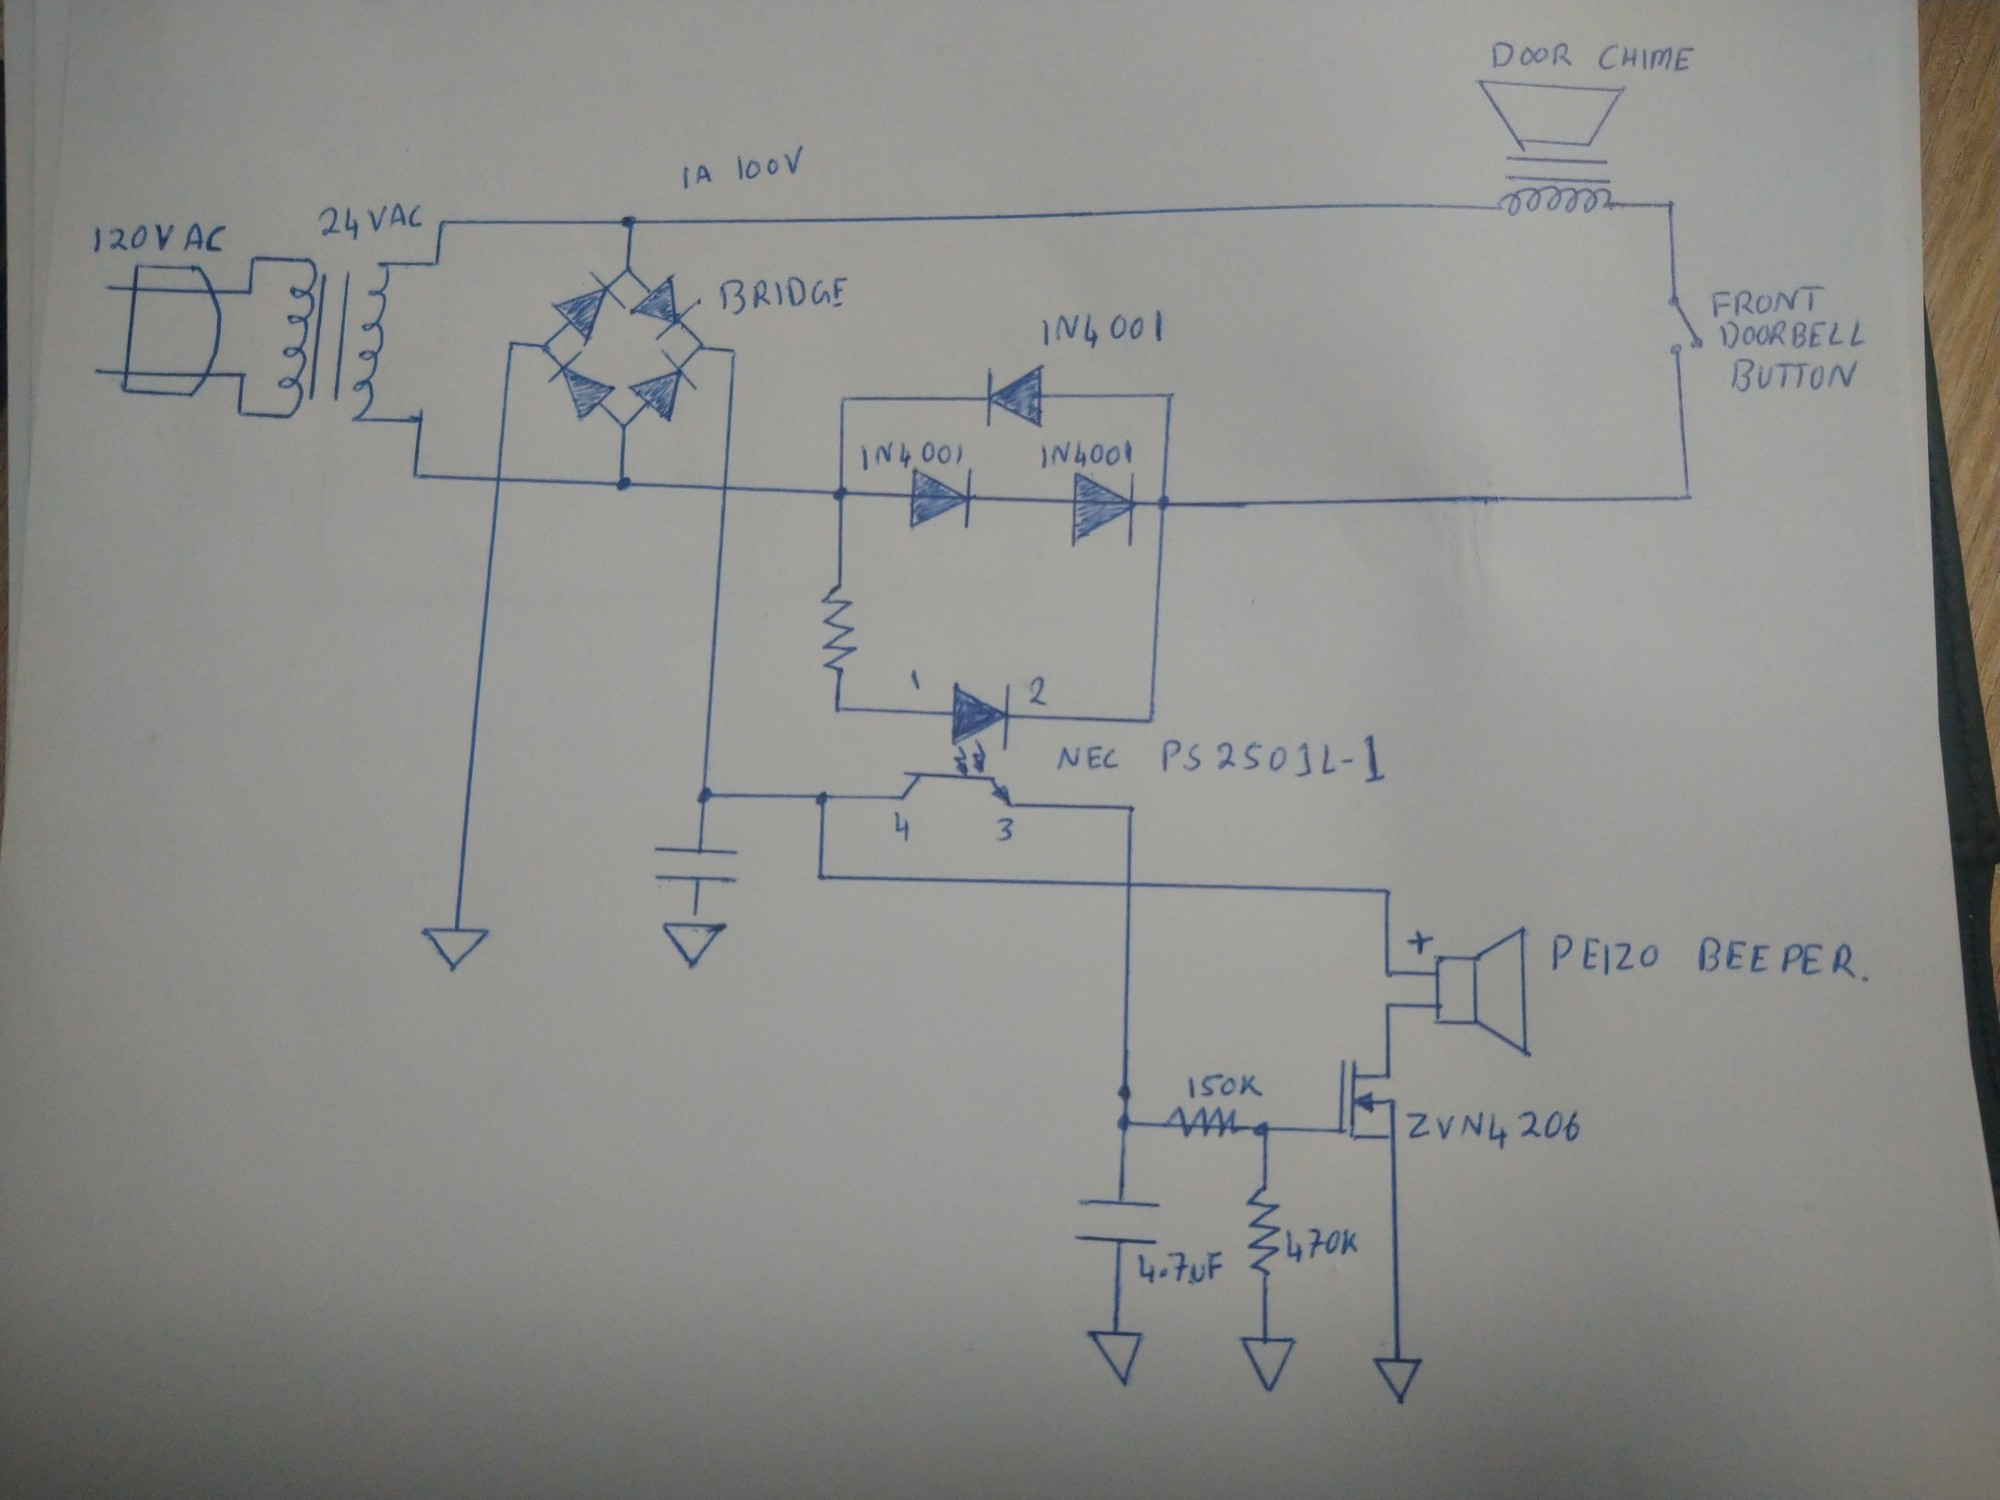capacitor.unpolarized: (1069, 1196, 1164, 1248), (649, 841, 743, 887)
crossover: (488, 466, 509, 488), (717, 477, 737, 498), (1120, 874, 1139, 895)
diode: (546, 269, 628, 343), (1069, 470, 1139, 550), (627, 348, 699, 424), (546, 350, 617, 424), (630, 274, 702, 342), (907, 466, 975, 534), (986, 362, 1046, 429)
gnd: (1236, 1333, 1301, 1394), (1083, 1327, 1146, 1388), (420, 923, 493, 974), (661, 919, 728, 971), (1370, 1353, 1427, 1409)
junction: (1249, 1119, 1276, 1141), (1113, 1112, 1137, 1136), (611, 470, 633, 495), (691, 785, 713, 805), (617, 211, 639, 232), (1154, 495, 1176, 514), (830, 482, 849, 504), (1376, 882, 1398, 901), (537, 337, 556, 359), (502, 336, 521, 355), (813, 789, 831, 807), (835, 391, 854, 408), (1679, 487, 1696, 506), (620, 262, 639, 279), (1159, 388, 1180, 403), (726, 343, 743, 361), (1660, 197, 1677, 214), (1381, 964, 1398, 982), (1121, 802, 1139, 818), (231, 403, 247, 421), (1381, 997, 1397, 1015), (814, 870, 830, 886), (831, 703, 847, 718), (616, 419, 631, 435), (408, 470, 424, 485), (246, 251, 261, 266), (1142, 712, 1159, 726), (243, 282, 257, 299), (694, 340, 709, 358), (435, 216, 450, 230), (431, 255, 446, 271), (236, 367, 250, 383), (413, 413, 425, 425)
optocoupler: (894, 678, 1019, 811)
resistor: (1244, 1183, 1285, 1278), (819, 585, 860, 674), (1159, 1106, 1243, 1142)
socket: (120, 262, 225, 399)
speaker: (1474, 76, 1631, 225), (1433, 923, 1534, 1062)
switch: (1665, 295, 1707, 358)
terminal: (101, 279, 121, 298), (88, 362, 109, 380)
text: (1055, 733, 1391, 786), (1550, 931, 1871, 983), (1403, 1109, 1587, 1153), (1488, 39, 1696, 76), (717, 273, 861, 321), (679, 143, 805, 194), (90, 217, 228, 257), (1039, 309, 1167, 350), (1717, 318, 1866, 353), (1728, 356, 1863, 394), (317, 202, 425, 244), (1709, 284, 1824, 321), (1132, 1249, 1227, 1289), (857, 440, 967, 473), (1285, 1224, 1362, 1264), (1184, 1068, 1269, 1101), (1039, 440, 1132, 470), (1027, 674, 1054, 709), (890, 810, 917, 845), (992, 815, 1017, 845), (904, 666, 928, 695)
transformer: (276, 255, 391, 425)
transistor: (1331, 1056, 1402, 1145)
